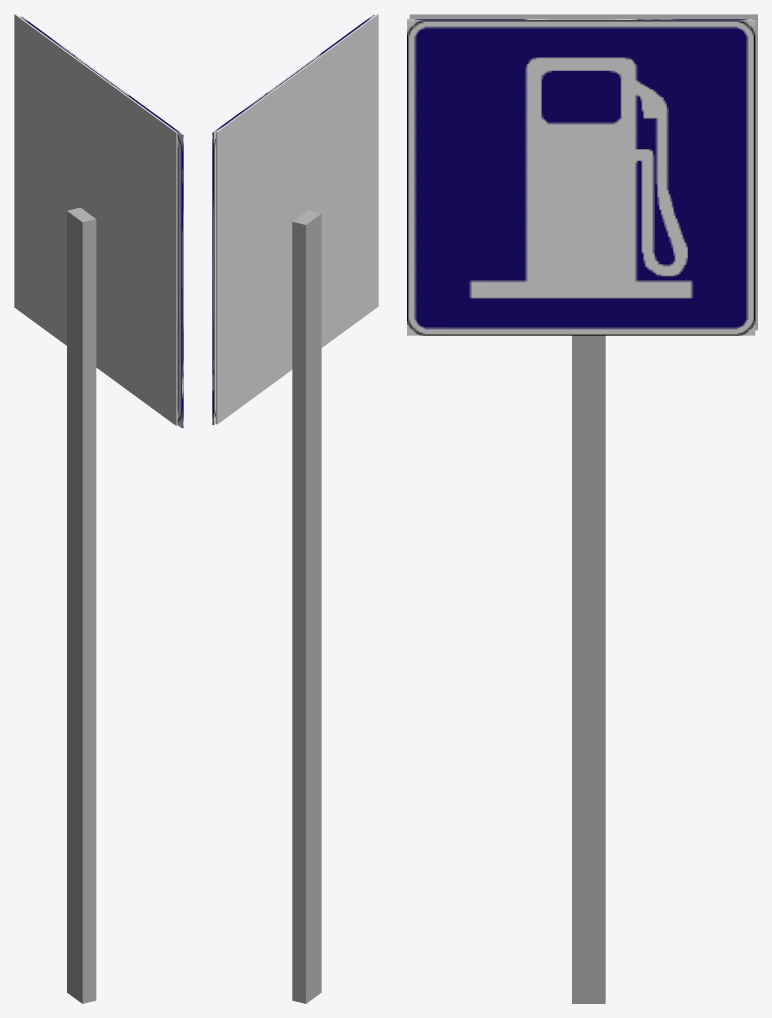
The model's file is gas_station_sign.dae.
The picture shows the model from 3 angles, left to right: view 1: azimuth 30°, elevation 25°; view 2: azimuth 150°, elevation 25°; view 3: azimuth 270°, elevation 25°; orthographic projection. The views are drawn at different scales.
Visible parts, largest first — view 1: Cube_002, Cube_001, Cube; view 2: Cube_002, Cube_001, Cube; view 3: Cube, Cube_001, Cube_002.
Part boxes in pixels (x1=…): Cube_002: x1=14, y1=14, x2=177, y2=425; Cube_001: x1=67, y1=207, x2=96, y2=1003; Cube: x1=20, y1=16, x2=183, y2=428; Cube_002: x1=216, y1=14, x2=378, y2=424; Cube_001: x1=292, y1=210, x2=321, y2=1003; Cube: x1=212, y1=14, x2=374, y2=424; Cube: x1=407, y1=19, x2=755, y2=335; Cube_001: x1=572, y1=335, x2=605, y2=1003; Cube_002: x1=409, y1=14, x2=757, y2=330.
Size of the model in its own units: 0.0799 by 0.9209 by 2.88.
